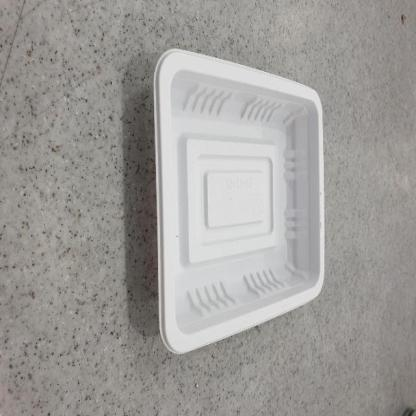Glass Cup: (154, 47, 324, 355), (154, 49, 325, 354)
